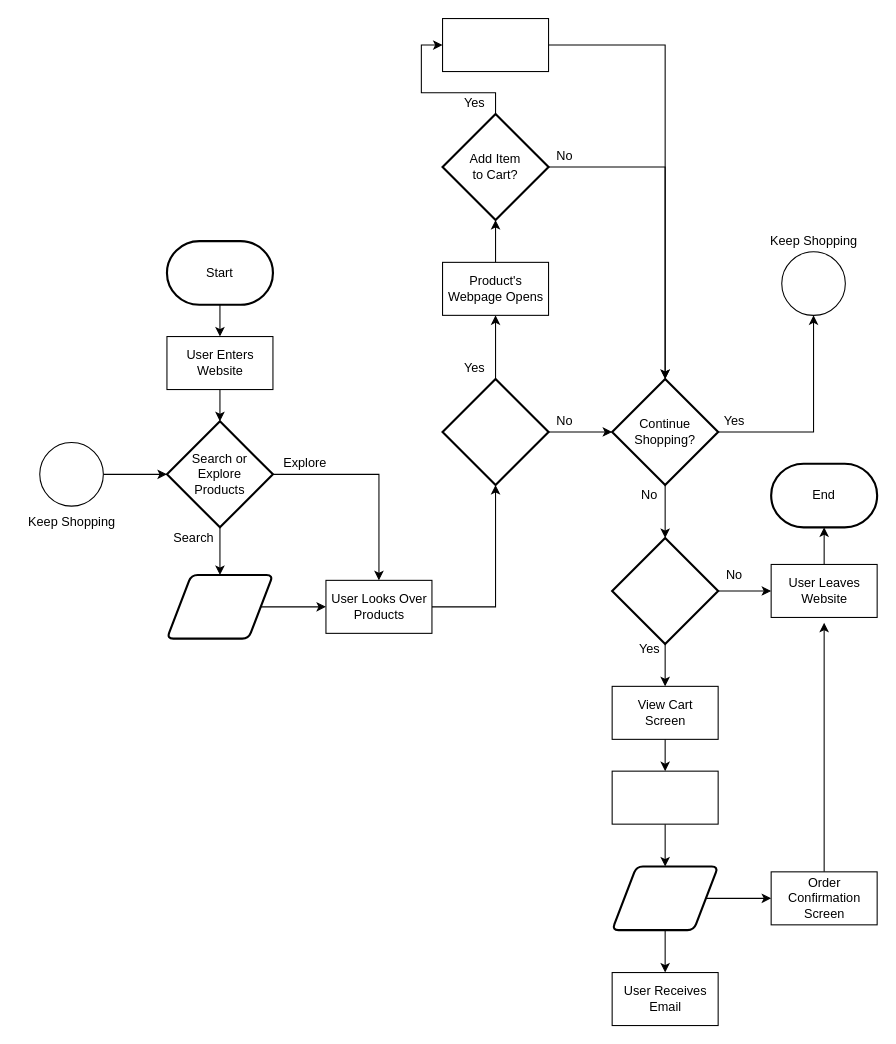
Image size: 896x1044. Some labels were removed from this diagram. The centre of each missing label's shape, as x and y in pixels:
"Item Added to Cart Confirmation" goes at (495,44).
"Proceed to Checkout?" goes at (665,590).
"User Gives Payment Information" goes at (665,898).
"User Searches for Product" goes at (219,606).
"View a Specific Product?" goes at (495,431).
"View Payment Screen" goes at (664,797).
